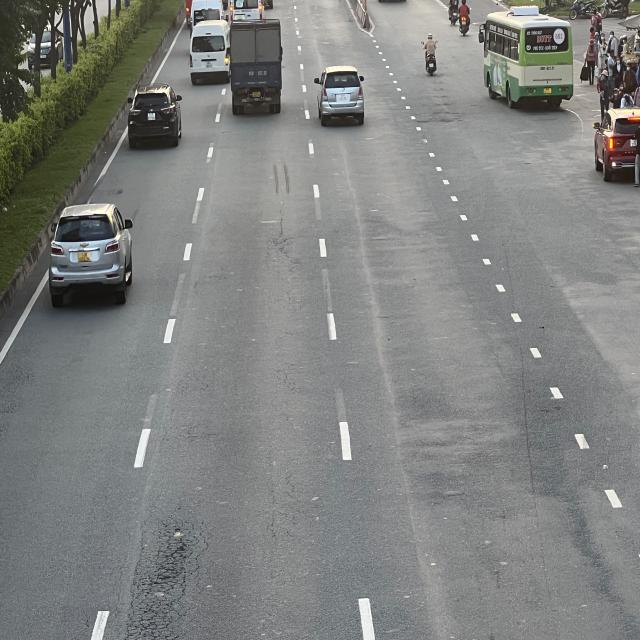car: (48, 203, 134, 302), (126, 84, 182, 148), (316, 64, 368, 124), (595, 109, 640, 178)
coach: (482, 12, 578, 108)
truck: (232, 15, 285, 115)
van: (189, 18, 230, 81)
